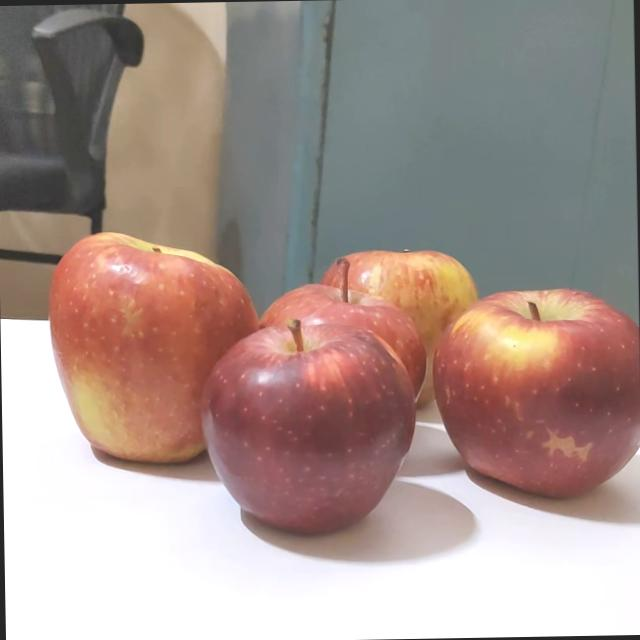apple: (46, 242, 258, 481), (405, 304, 640, 519), (174, 324, 389, 548), (244, 268, 416, 480), (331, 255, 487, 435)
